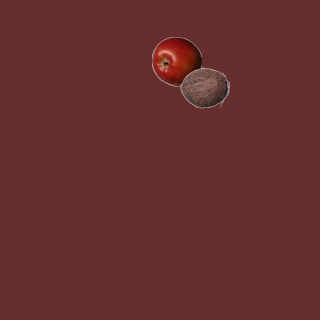Apple Braeburn: (151, 36, 201, 86)
Cocos: (179, 62, 229, 112)
